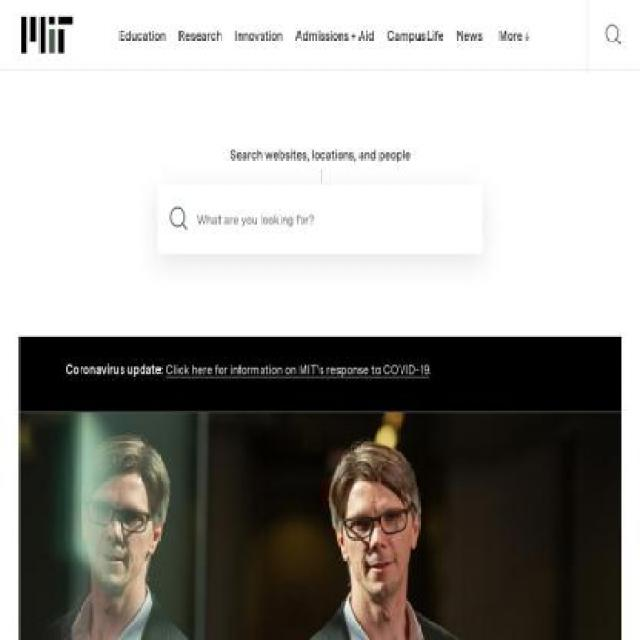button: (19, 412, 622, 640), (295, 1, 374, 72), (166, 361, 429, 377), (386, 1, 445, 72), (587, 0, 639, 71), (234, 1, 283, 72), (119, 1, 166, 72), (178, 1, 222, 72), (494, 0, 534, 71), (20, 16, 74, 55), (456, 1, 484, 72)
field: (158, 183, 482, 254)
